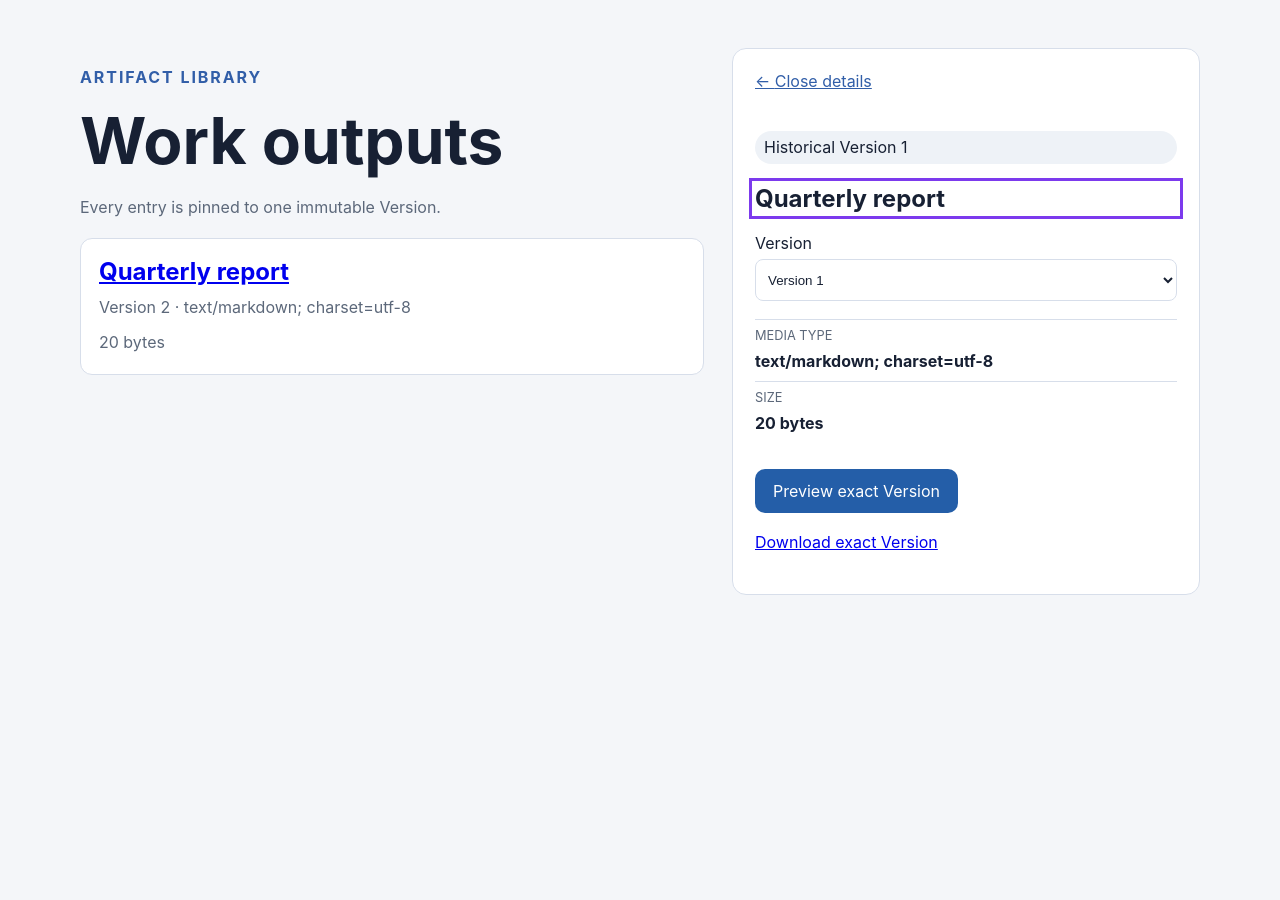
Artifact Library exact-Version experience › marks history, previews only on request, and switches the exact URL
Check: the text "Historical Version 1" is shown, box [755,131,1177,164]
Step 1. Select "Version 2" in the dropdown labelled "Version" → (966, 280), box [755,259,1177,301]
Step 2. Click the button "Preview exact Version" → (856, 491), box [755,469,958,513]
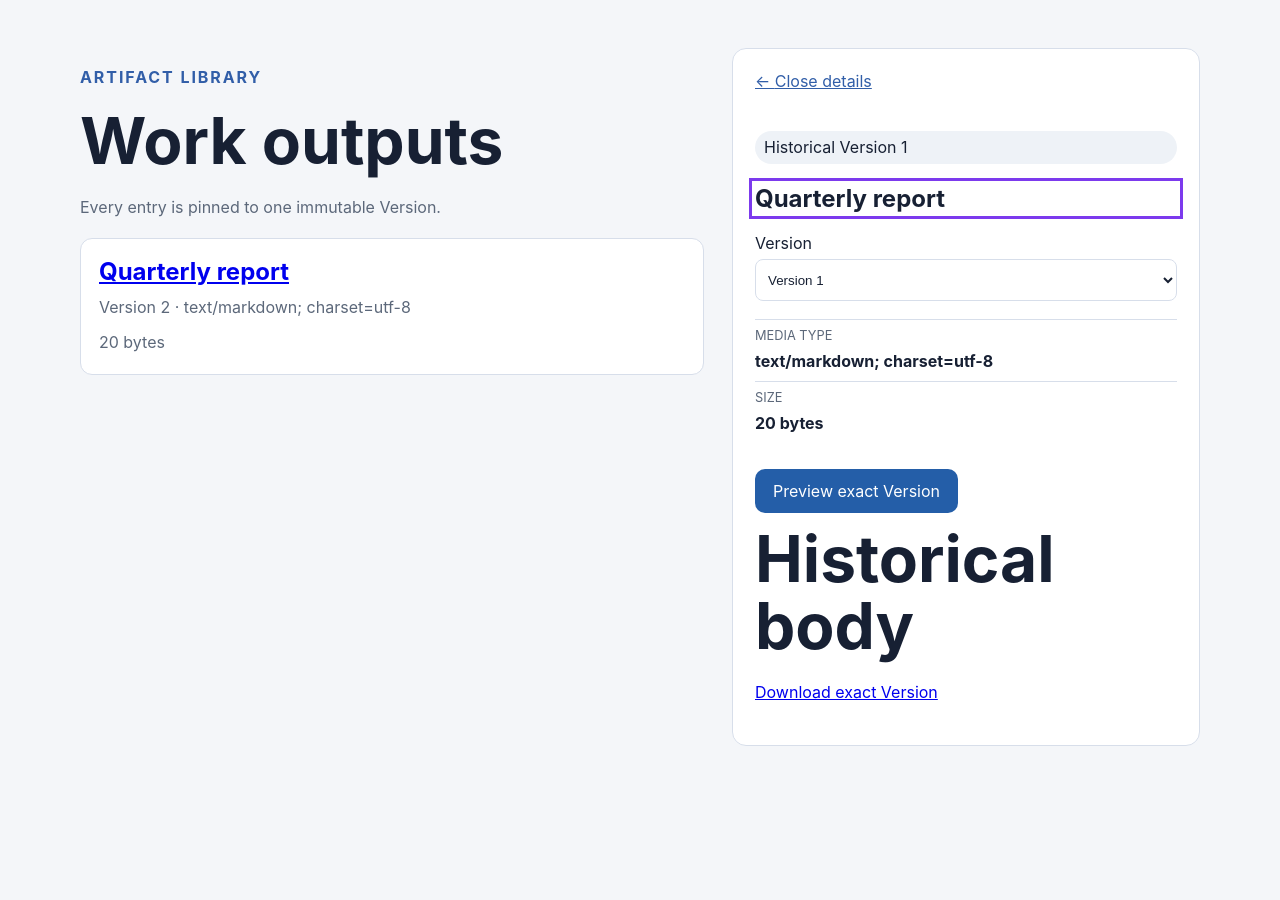
Check: the heading "Historical body" is shown, box [755,520,1070,664]
